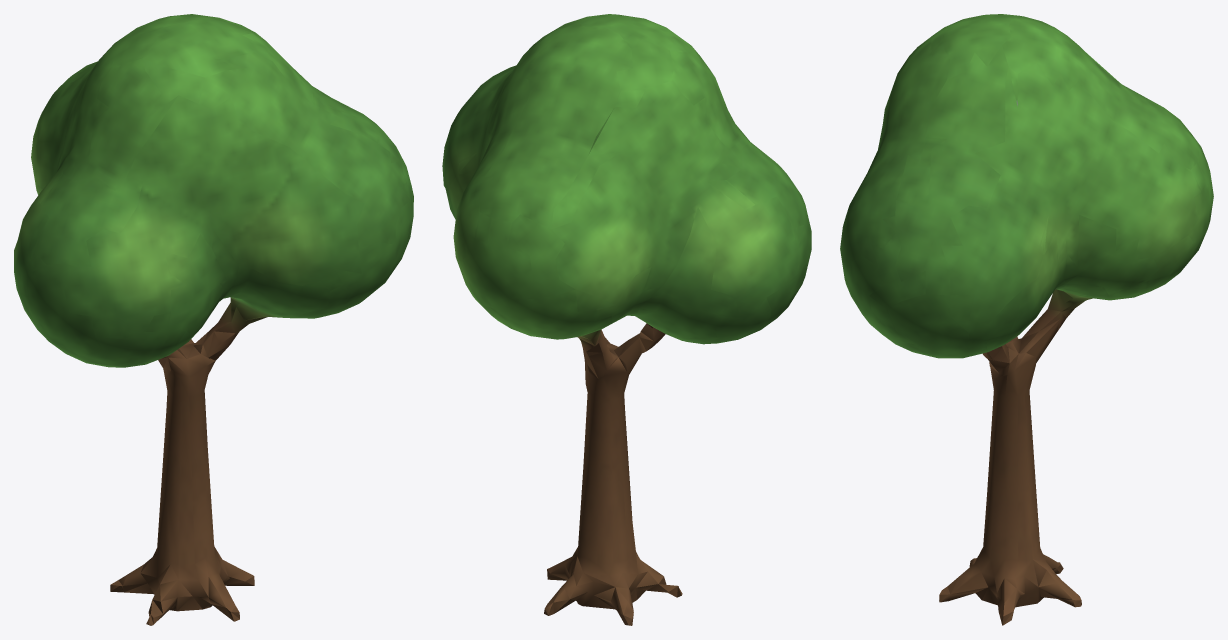
File: tree_edits.mid.glb
3 views of the same model, side by side, from view 1: azimuth 30°, elevation 25°; view 2: azimuth 150°, elevation 25°; view 3: azimuth 270°, elevation 25° (orthographic).
Visible parts, largest first — view 1: tree_edits; view 2: tree_edits; view 3: tree_edits.
Part boxes in pixels (x1=…): tree_edits: x1=14, y1=14, x2=413, y2=625; tree_edits: x1=442, y1=14, x2=811, y2=625; tree_edits: x1=840, y1=14, x2=1213, y2=625.
Bounding box in the file's own units: 3.34 × 5.15 × 3.05.
Materials: 1 (1 with a texture image).
